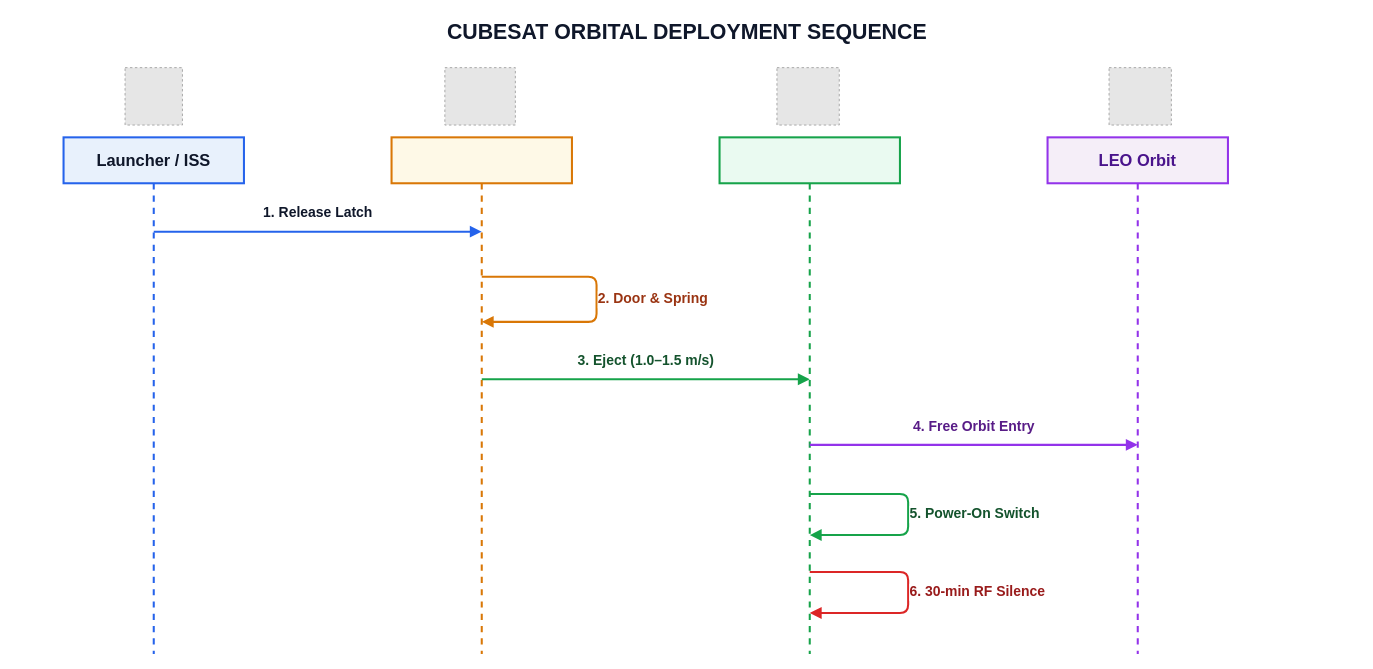
Some shapes in this 1373 by 669 pixel diagram are drawn without their labels. Grey dashed boxes stand in for pictures. Here are the shapes that lost their labels. From the top down, the box of each, then its label:
(390, 136, 573, 655): POD Deployer
(718, 136, 901, 655): 1U CubeSat
